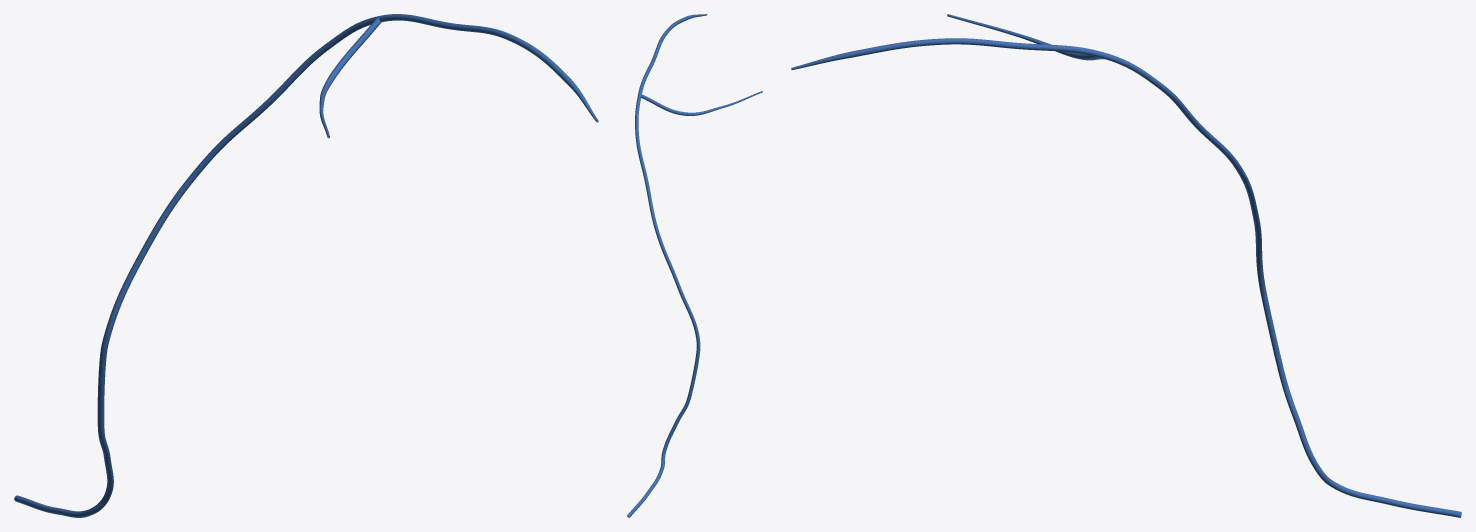
The picture shows the model from 3 angles, left to right: view 1: azimuth 30°, elevation 25°; view 2: azimuth 150°, elevation 25°; view 3: azimuth 270°, elevation 25°; orthographic projection. The views are drawn at different scales.
Parts seen in each view (by area): view 1: 右侧枕静脉; view 2: 右侧枕静脉; view 3: 右侧枕静脉.
Part boxes in pixels (x1=…): 右侧枕静脉: x1=14, y1=14, x2=598, y2=517; 右侧枕静脉: x1=627, y1=14, x2=762, y2=517; 右侧枕静脉: x1=791, y1=14, x2=1461, y2=517.
Bounding box in the file's own units: 0.0634 × 0.1513 × 0.1598.
